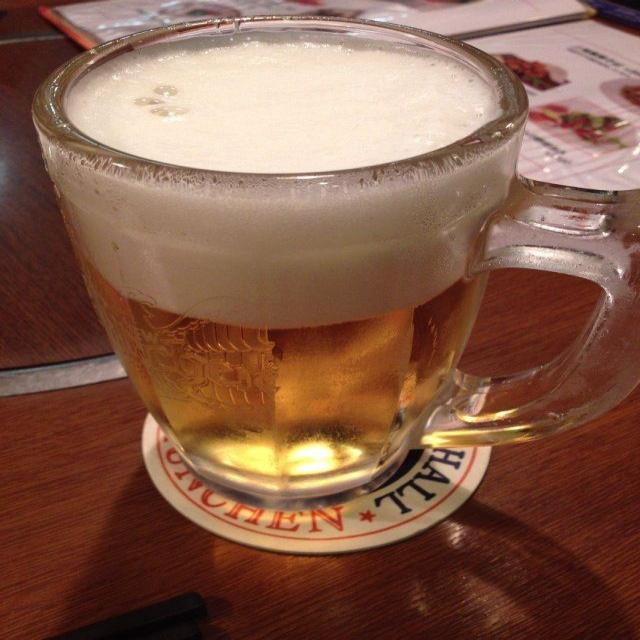glass-mug: (24, 11, 640, 507)
